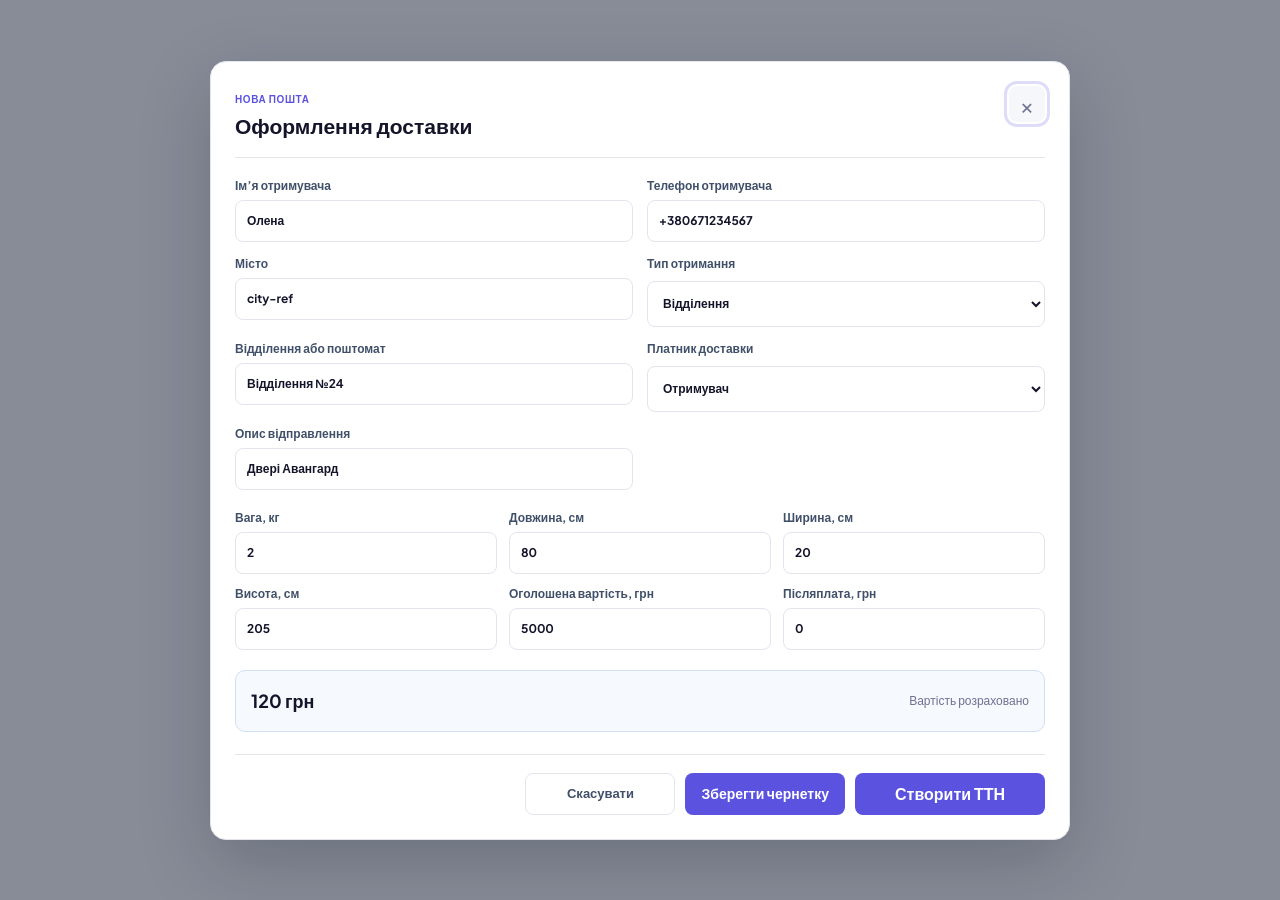
Test: ShipmentReviewDialog › saves the exact draft and issues one create command from a stable loading button
Expected: the text "120 грн" is shown, [251,688,314,712]
Click the button "Створити ТТН": (950, 794) [855,772,1045,814]
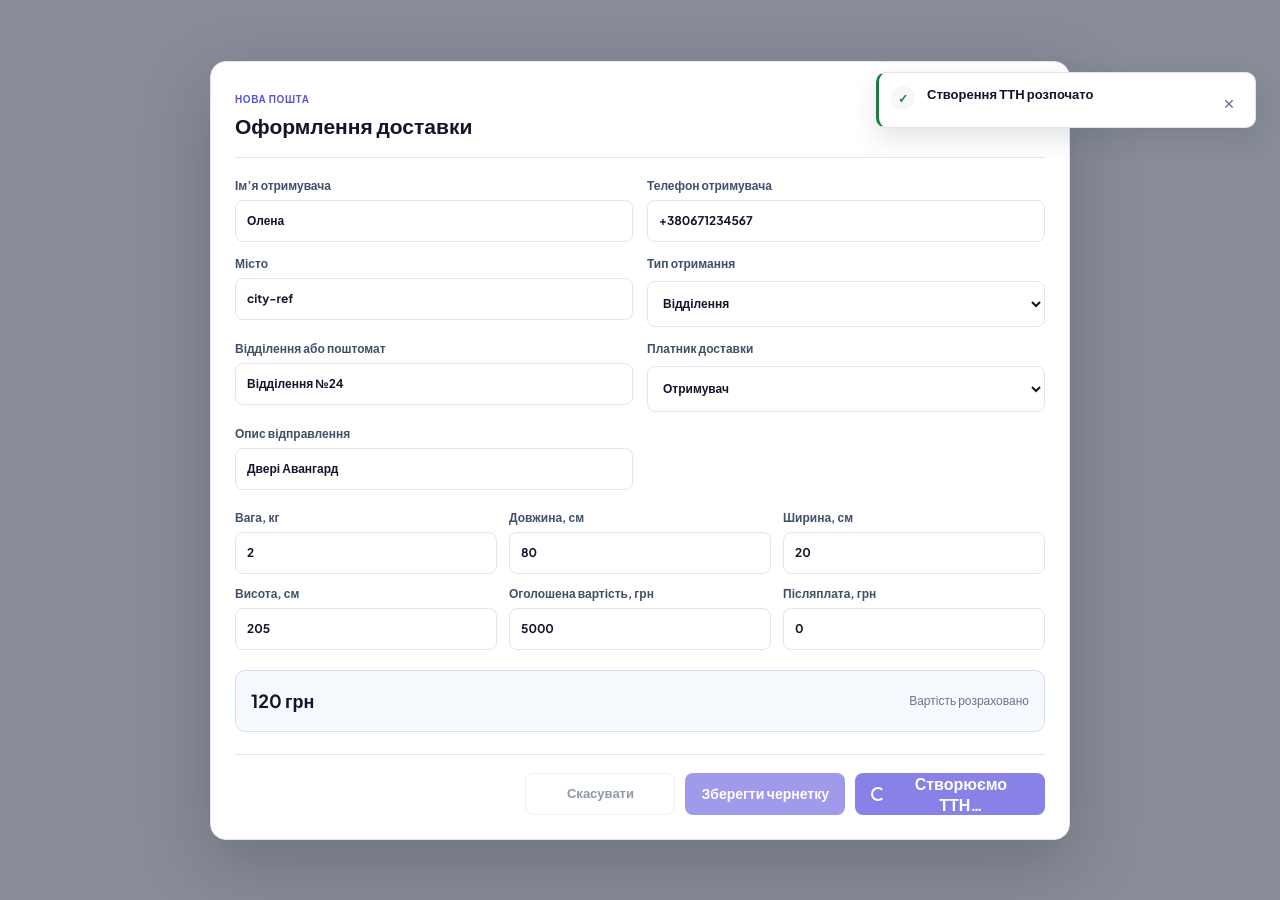
Result: the button "Створюємо ТТН…" is disabled at [855,772,1045,814]
